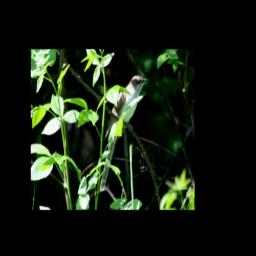Cuckoo: (99, 75, 151, 190)
